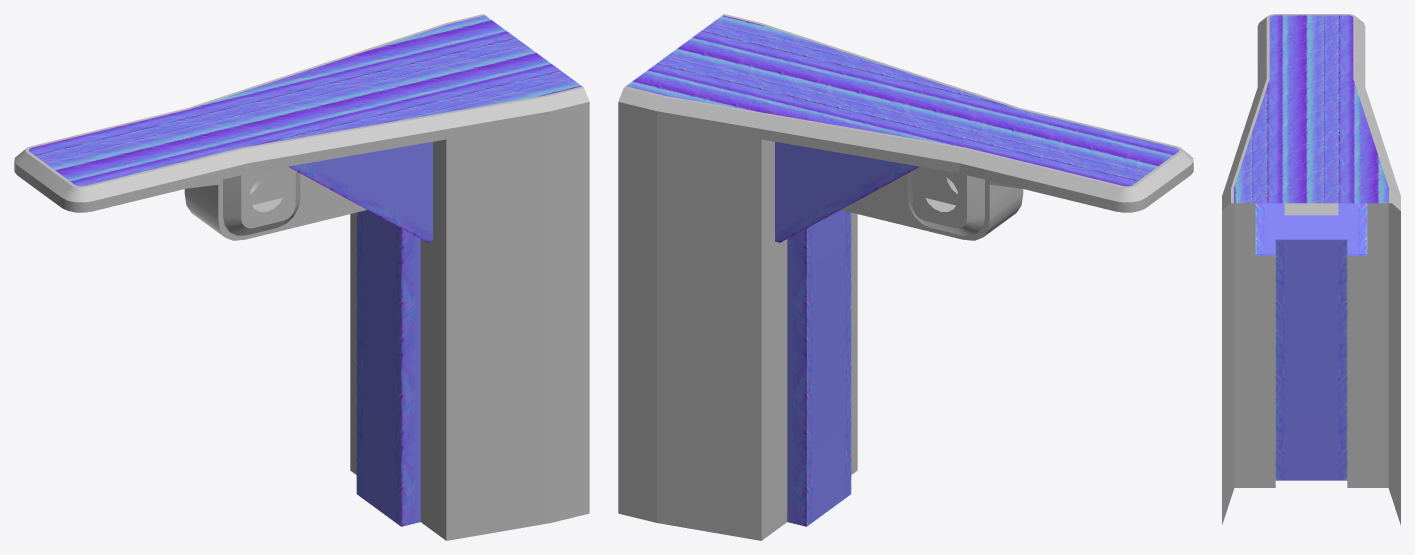
Rendered from Level_01_Docking_Bridge_A.fbx.
The picture shows the model from 3 angles, left to right: view 1: azimuth 30°, elevation 25°; view 2: azimuth 150°, elevation 25°; view 3: azimuth 270°, elevation 25°; orthographic projection. The views are drawn at different scales.
Visible parts, largest first — view 1: Geometry_Level_01_Docking_Bridge_A_Metal_LOD01, Geometry_Level_01_Docking_Bridge_A_Concrete_B_LOD01, Geometry_Level_01_Docking_Bridge_A_Concrete_A_LOD01, Geometry_Level_01_Docking_Bridge_A_Elements_LOD01; view 2: Geometry_Level_01_Docking_Bridge_A_Metal_LOD01, Geometry_Level_01_Docking_Bridge_A_Concrete_B_LOD01, Geometry_Level_01_Docking_Bridge_A_Concrete_A_LOD01, Geometry_Level_01_Docking_Bridge_A_Elements_LOD01; view 3: Geometry_Level_01_Docking_Bridge_A_Metal_LOD01, Geometry_Level_01_Docking_Bridge_A_Concrete_A_LOD01, Geometry_Level_01_Docking_Bridge_A_Concrete_B_LOD01, Geometry_Level_01_Docking_Bridge_A_Elements_LOD01.
Part boxes in pixels (box(x1,y1,x2,y2)): Geometry_Level_01_Docking_Bridge_A_Metal_LOD01: box(14, 102, 589, 540); Geometry_Level_01_Docking_Bridge_A_Concrete_B_LOD01: box(29, 15, 581, 186); Geometry_Level_01_Docking_Bridge_A_Concrete_A_LOD01: box(288, 141, 432, 526); Geometry_Level_01_Docking_Bridge_A_Elements_LOD01: box(14, 14, 589, 235); Geometry_Level_01_Docking_Bridge_A_Metal_LOD01: box(618, 102, 1193, 540); Geometry_Level_01_Docking_Bridge_A_Concrete_B_LOD01: box(626, 15, 1178, 186); Geometry_Level_01_Docking_Bridge_A_Concrete_A_LOD01: box(775, 141, 919, 526); Geometry_Level_01_Docking_Bridge_A_Elements_LOD01: box(618, 14, 1193, 235); Geometry_Level_01_Docking_Bridge_A_Metal_LOD01: box(1222, 203, 1400, 524); Geometry_Level_01_Docking_Bridge_A_Concrete_A_LOD01: box(1255, 203, 1367, 480); Geometry_Level_01_Docking_Bridge_A_Concrete_B_LOD01: box(1234, 15, 1388, 203); Geometry_Level_01_Docking_Bridge_A_Elements_LOD01: box(1222, 14, 1400, 210).
Bounding box in the file's own units: 2553 × 1000 × 2082.
